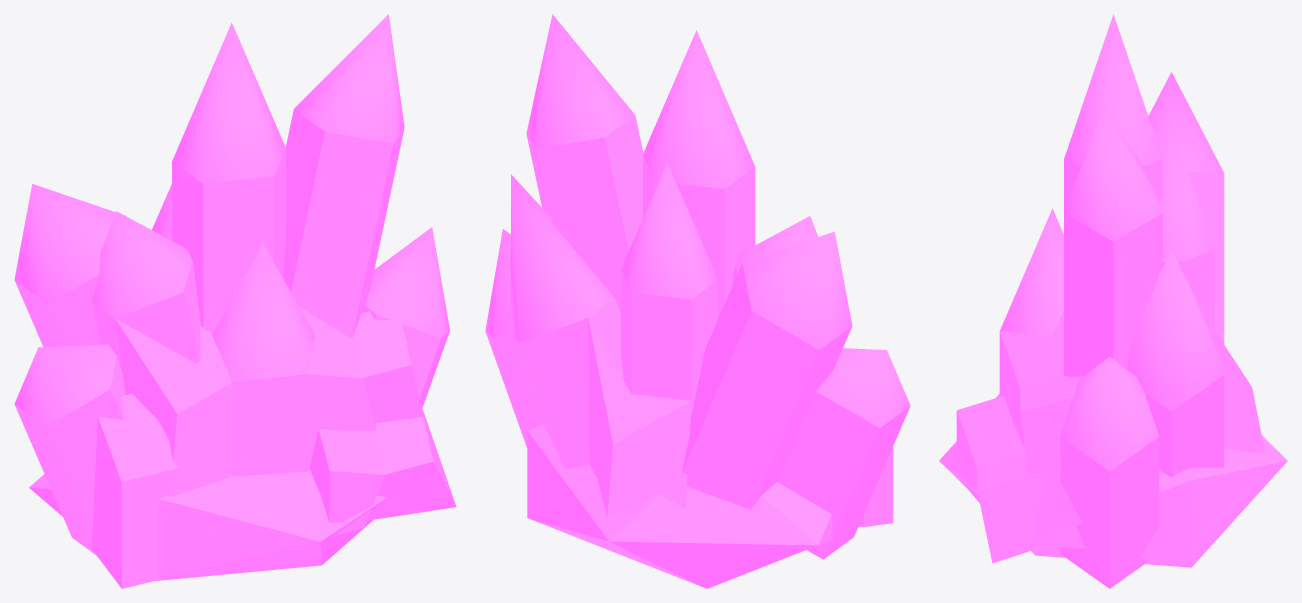
File: Iridium_2.fbx
3 views of the same model, side by side, from view 1: azimuth 30°, elevation 25°; view 2: azimuth 150°, elevation 25°; view 3: azimuth 270°, elevation 25° (orthographic).
Visible parts, largest first — view 1: polySurface66, polySurface62, polySurface72, polySurface56, polySurface71, polySurface63, polySurface61, polySurface65, polySurface57, polySurface64, polySurface68, polySurface70 (+3 smaller); view 2: polySurface65, polySurface72, polySurface66, polySurface60, polySurface69, polySurface62, polySurface71, polySurface58, polySurface64, polySurface57, polySurface61; view 3: polySurface66, polySurface64, polySurface60, polySurface72, polySurface62, polySurface65, polySurface67, polySurface69, polySurface70, polySurface56, polySurface68, polySurface59 (+1 smaller).
Boxes of the visible parts, x1,y1,x2,y2 form: polySurface66: (283,14,404,338); polySurface62: (172,22,286,334); polySurface72: (29,470,386,580); polySurface56: (212,243,314,476); polySurface71: (14,344,125,555); polySurface63: (115,319,232,496); polySurface61: (92,394,179,588); polySurface65: (14,184,125,347); polySurface57: (92,211,201,373); polySurface64: (363,227,449,407); polySurface68: (299,307,376,471); polySurface70: (367,402,456,520); polySurface65: (682,231,852,509); polySurface72: (527,424,860,588); polySurface66: (526,14,643,312); polySurface60: (510,174,623,469); polySurface69: (621,163,717,416); polySurface62: (643,30,755,318); polySurface71: (777,348,910,559); polySurface58: (588,318,691,517); polySurface64: (485,229,542,447); polySurface57: (732,216,818,285); polySurface61: (858,446,893,526); polySurface66: (1064,111,1162,376); polySurface64: (1060,356,1159,588); polySurface60: (1127,251,1224,477); polySurface72: (939,394,1287,567); polySurface62: (1064,14,1162,212); polySurface65: (1148,72,1224,344); polySurface67: (1020,376,1082,538); polySurface69: (1160,126,1214,329); polySurface70: (977,456,1047,563); polySurface56: (1000,208,1063,336); polySurface68: (999,311,1067,448); polySurface59: (956,395,1025,502).
Size of the model in its own units: 1383 by 1664 by 1017.
